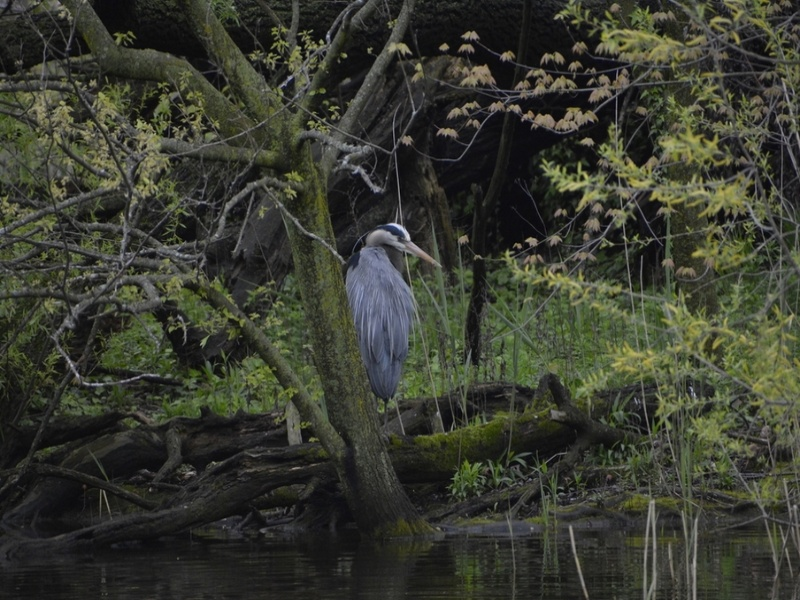heron: (342, 218, 443, 444)
